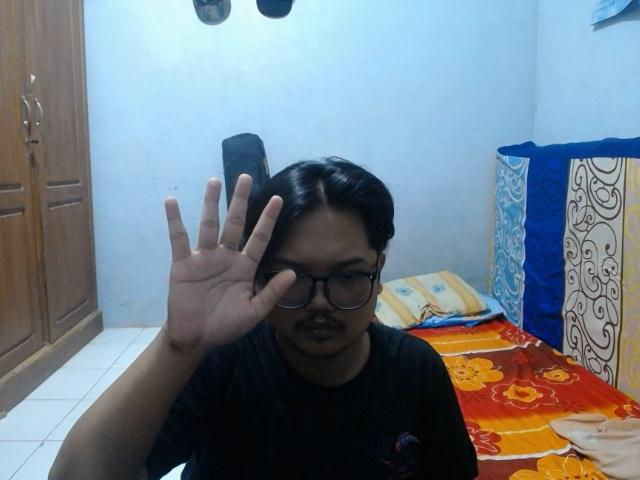Release: (158, 168, 300, 359)
